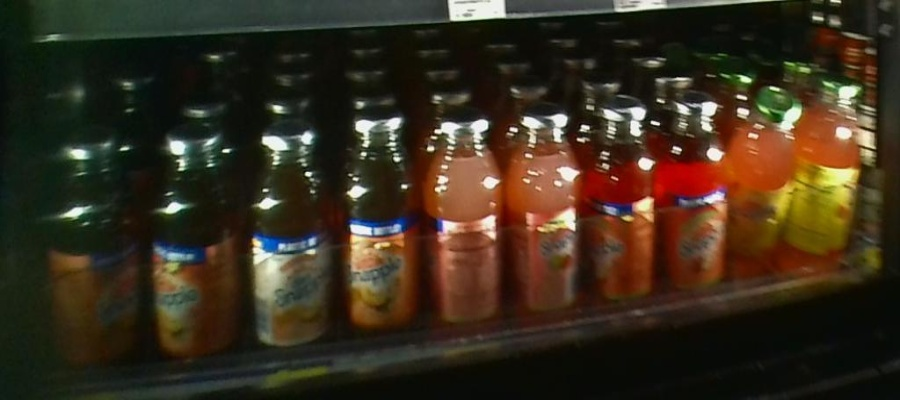bottle: (41, 123, 144, 377), (146, 120, 239, 380), (243, 119, 331, 367), (334, 103, 420, 345), (421, 96, 502, 334), (504, 93, 584, 332), (657, 82, 732, 305), (587, 91, 656, 317), (734, 86, 802, 285), (802, 69, 860, 286)
